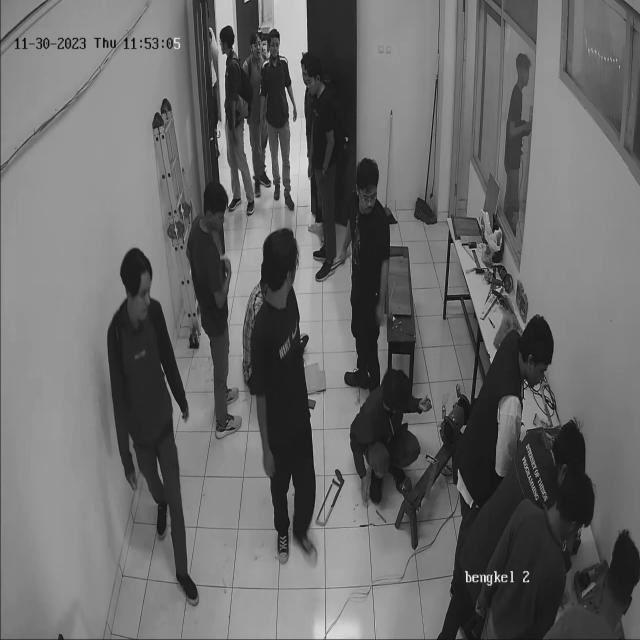person: (98, 231, 220, 637), (236, 219, 343, 579), (188, 165, 253, 460), (341, 359, 438, 523), (289, 31, 347, 291), (340, 116, 388, 409), (262, 31, 300, 213), (217, 8, 250, 216)
